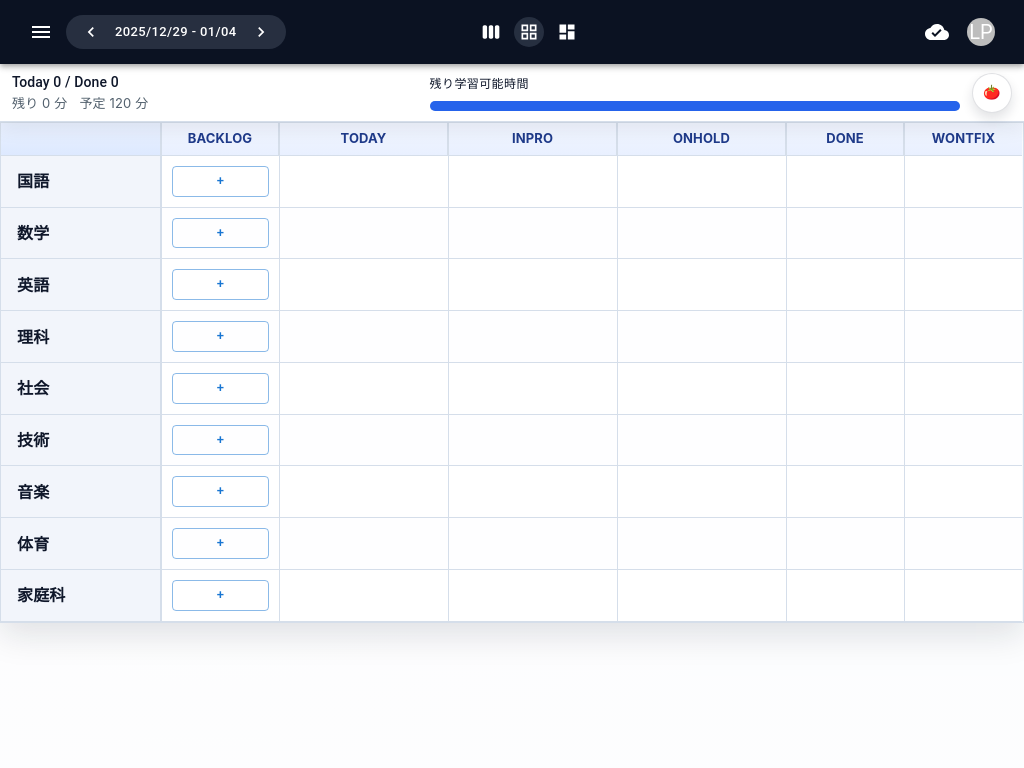
メニュー操作で SettingsPanel を開く
The width and height of the screenshot is (1024, 768).
Click the button named "メニュー" at (41, 32), box x1=24 y1=15 x2=58 y2=49
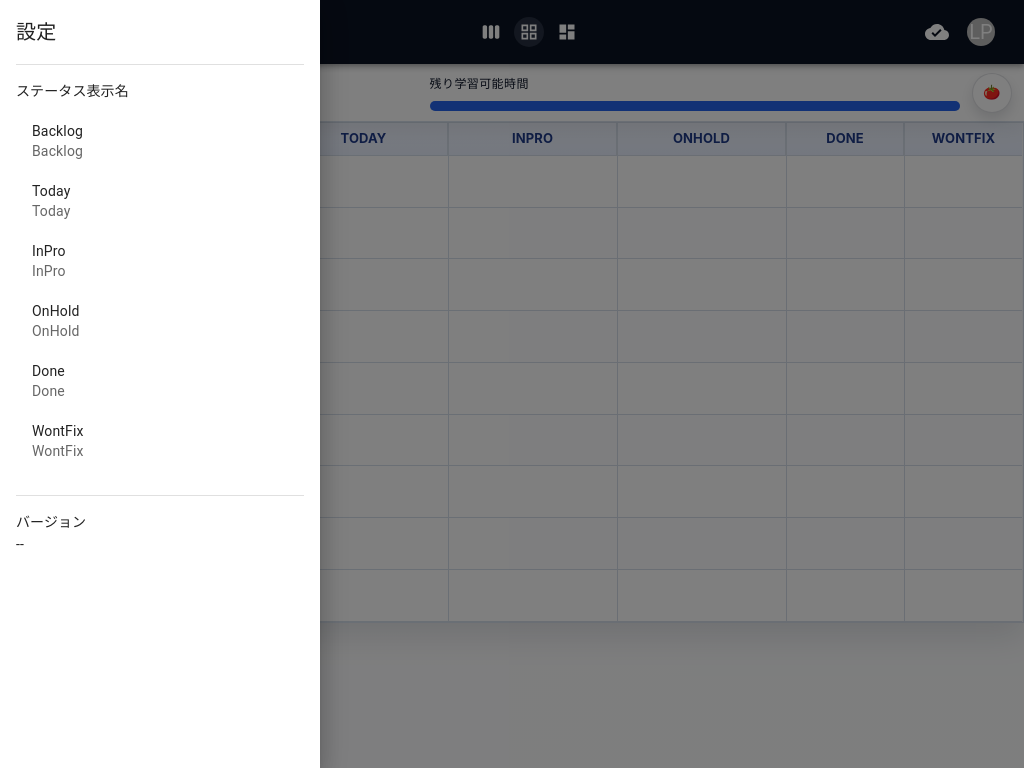
Now the heading "設定" is shown, box x1=16 y1=20 x2=56 y2=44
